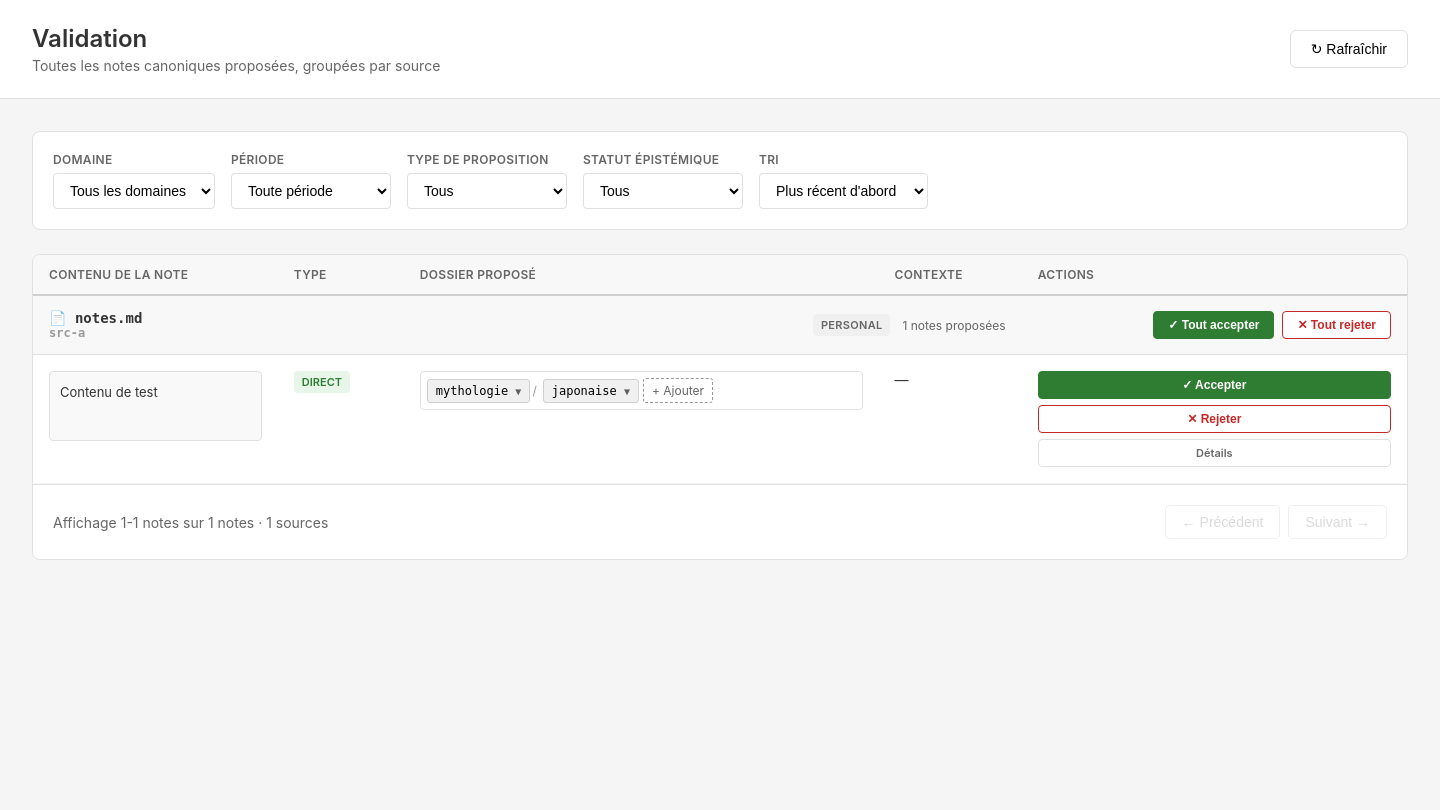
Scenario: Validation › reverts the optimistic path update and surfaces actionError when editProposal fails
The width and height of the screenshot is (1440, 810).
expect the text "📄 notes.md" is shown: met, box top-left (49, 310), bottom-right (142, 326)
Click the button "japonaise ▼" at [591, 390], box top-left (543, 378), bottom-right (639, 402)
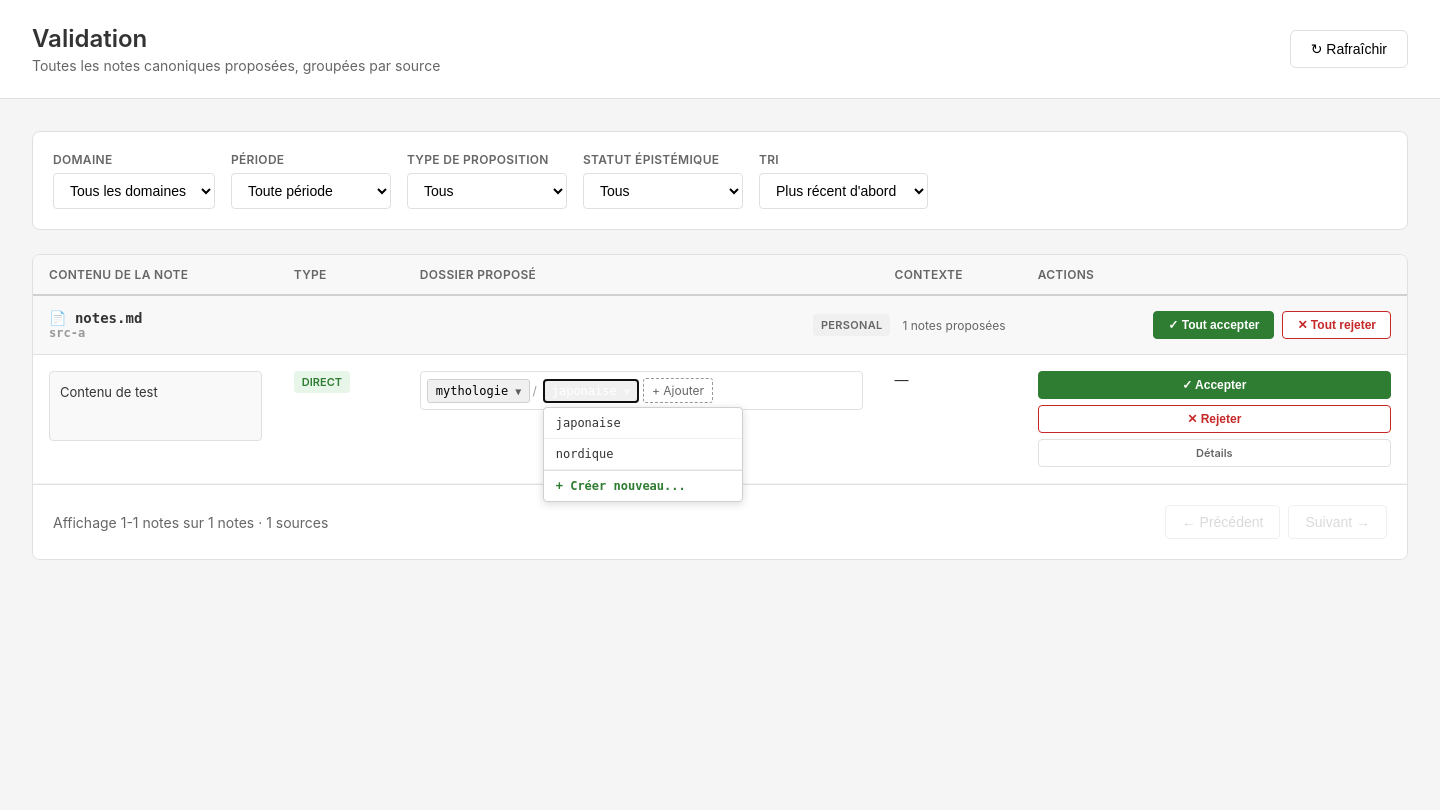
Click the button "nordique" at [643, 454], box top-left (544, 438), bottom-right (742, 470)
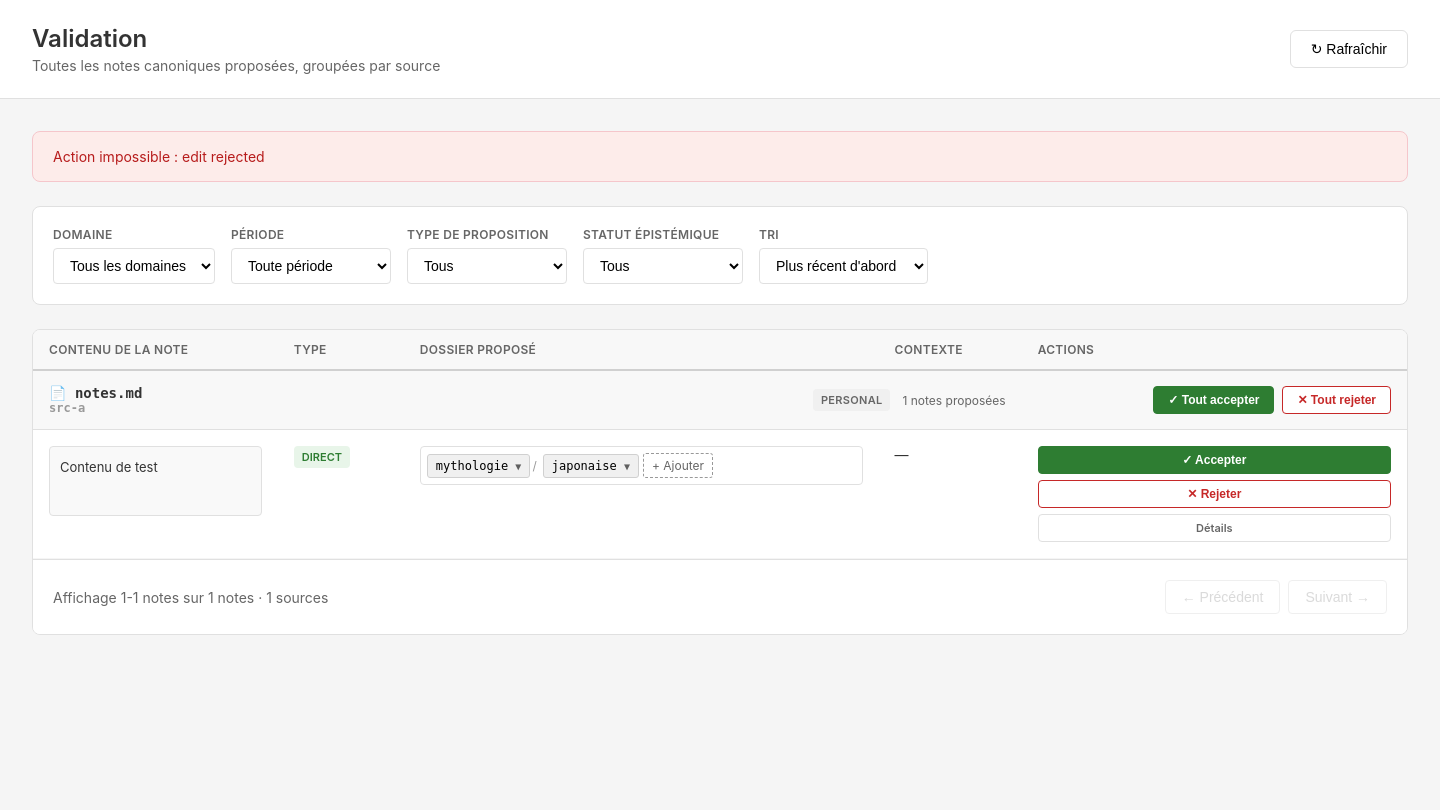
expect the button "japonaise ▼" is shown: met, box top-left (543, 454), bottom-right (639, 478)
expect the text "Action impossible : edit rejected" is shown: met, box top-left (32, 131), bottom-right (1408, 182)
expect the button "nordique" is gone: met
